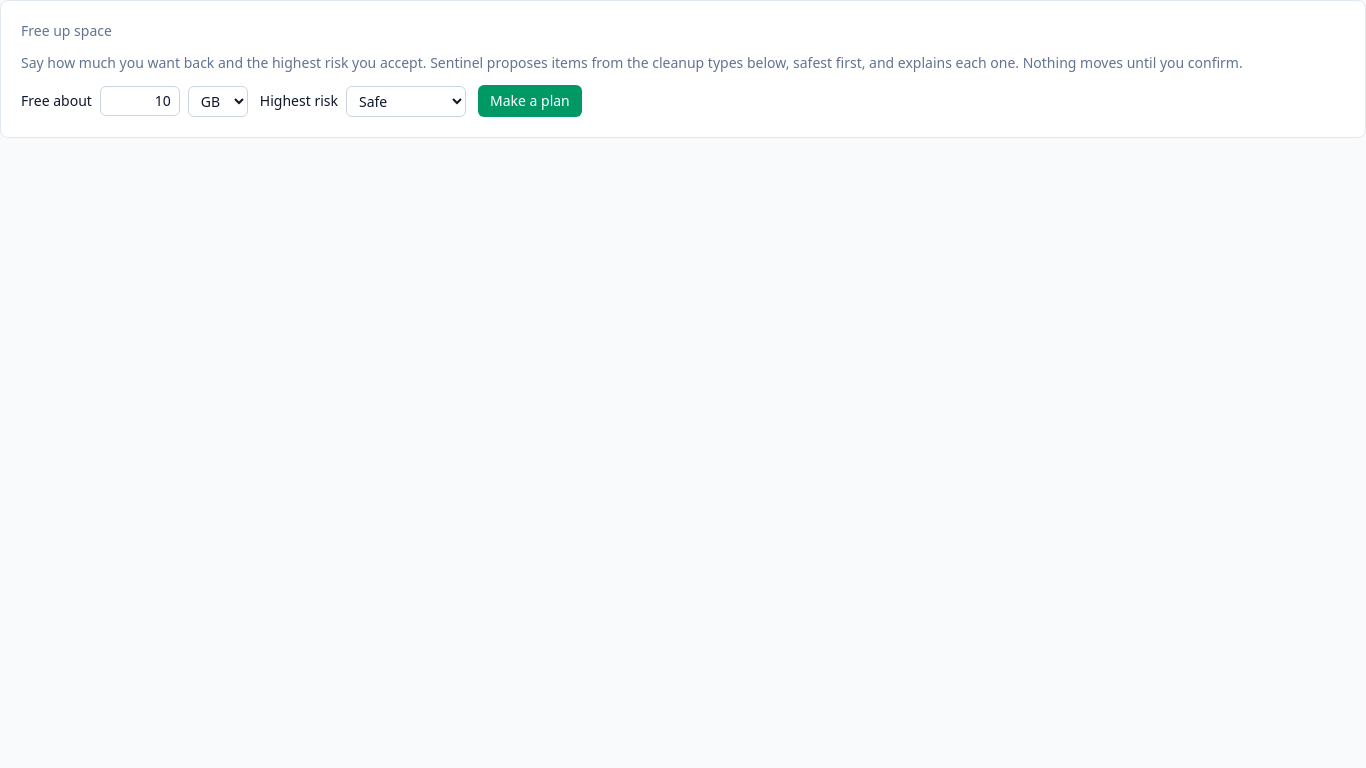
it: RecoveryPlanPanel › says plainly when the plan falls short and what exists above the ceiling
Click the button "Make a plan".
click(530, 101)  # box [478,85,582,117]
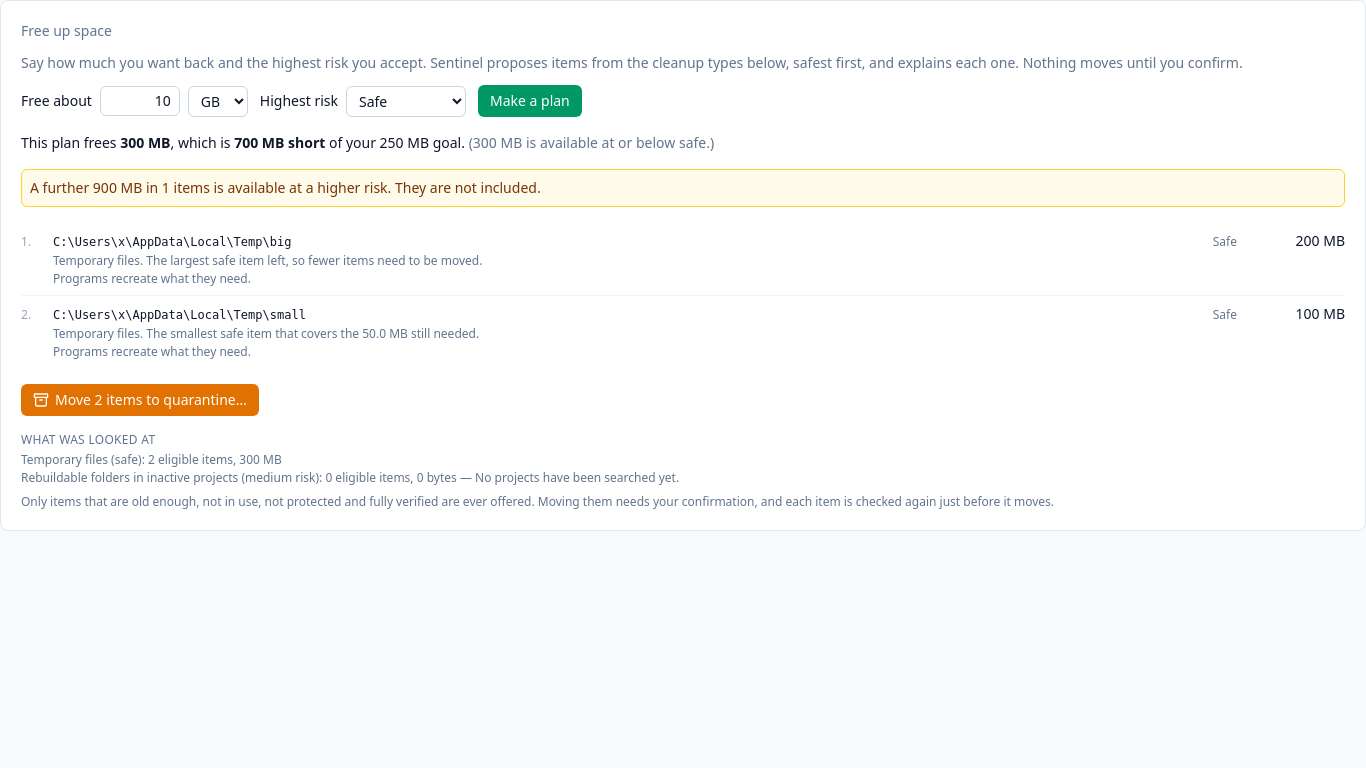
expect the text "700 MB short" is shown: met, box [234,133,325,152]
expect the text "not included" is shown: met, box [30,178,541,197]
